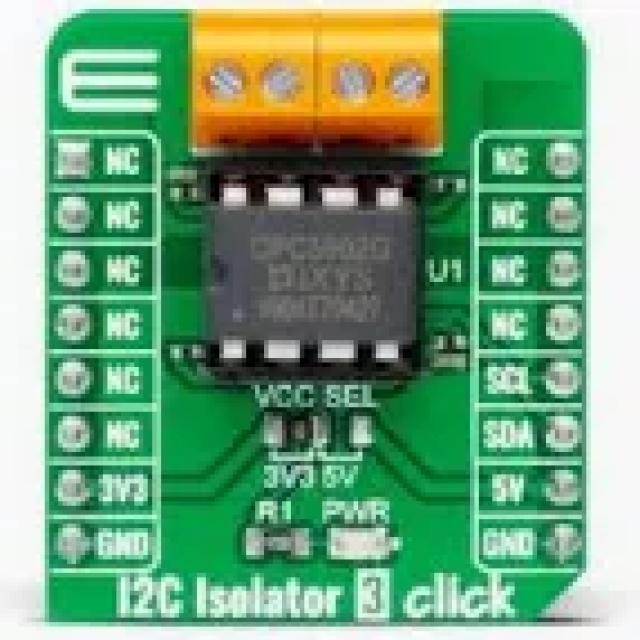pcb: (36, 0, 595, 627), (188, 166, 425, 380)
